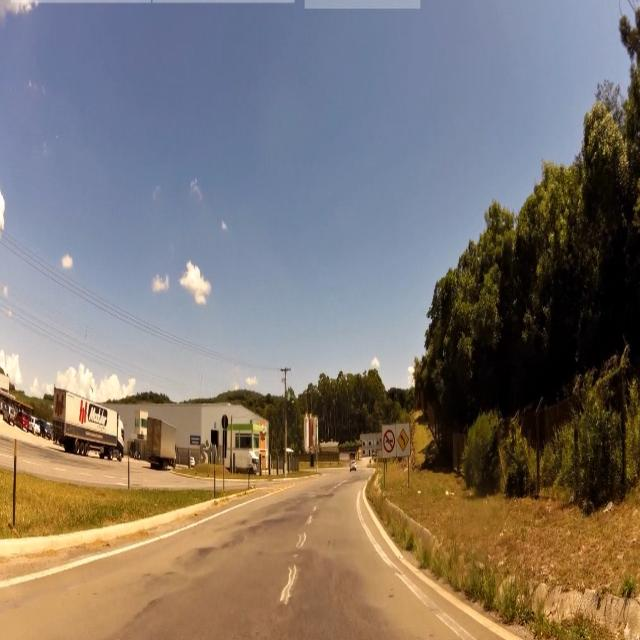A-2a: (398, 428, 408, 451)
R-7: (384, 430, 394, 452)
